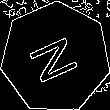N_NE: (25, 29, 86, 86)
